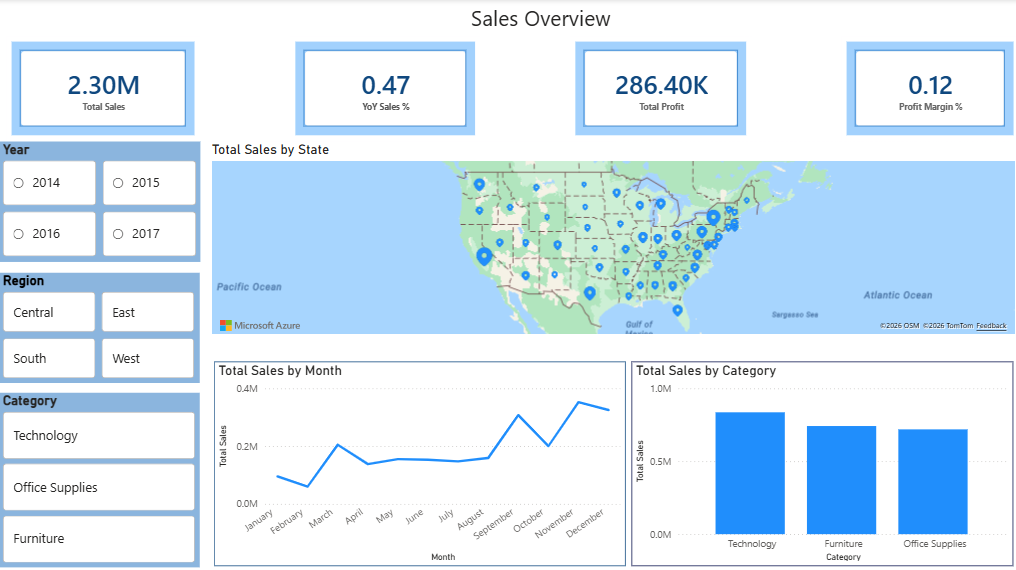

The dashboard page shown, as its layout file describes it:
{"tool":"powerbi","page":{"name":"Sales Overview","canvas":[1280,720],"ordinal":0},"visuals":[{"type":"cardVisual","fields":{"Data":["FactSales.Total Sales"]},"box":[10.1,47,242.4,130.6],"z":0},{"type":"lineChart","fields":{"Category":["DAXDimDate.Month"],"Y":["FactSales.Total Sales"]},"box":[270,455.8,516.8,256.9],"z":1000},{"type":"clusteredColumnChart","fields":{"Category":["DimProduct.Category"],"Y":["FactSales.Total Sales"]},"box":[794,455.8,479,256.9],"z":2000},{"type":"cardVisual","fields":{"Data":["FactSales.Total Profit"]},"box":[717.1,47,227.9,130.6],"z":3000},{"type":"cardVisual","fields":{"Data":["FactSales.Profit Margin %"]},"box":[1057.9,47,222.1,130.6],"z":4000},{"type":"cardVisual","fields":{"Data":["FactSales.YoY Sales %"]},"box":[365.8,47,238.1,130.6],"z":5000},{"type":"advancedSlicerVisual","fields":{"Values":["DAXDimDate.Year"]},"box":[0,178.5,252.6,151],"z":6000},{"type":"azureMap","fields":{"Category":["DimRegion.State"],"Size":["FactSales.Total Sales"]},"box":[262.7,178.5,1017.6,246.8],"z":7000},{"type":"advancedSlicerVisual","fields":{"Values":["DimRegion.Region"]},"box":[0,343,252,138.6],"z":8000},{"type":"advancedSlicerVisual","fields":{"Values":["DimProduct.Category"]},"box":[0,494,251.9,218.9],"z":9000},{"type":"textbox","box":[571.9,0,214.8,46.5],"z":10000}]}

Visuals, with their boxes in screenshot pixels (x1, y1, x2, y2), scaled from the page's 1280x720 canvas onto the 1016x570 screenshot:
cardVisual - FactSales.Total Sales: [left=8, top=37, right=200, bottom=141]
lineChart - DAXDimDate.Month x FactSales.Total Sales: [left=214, top=361, right=625, bottom=564]
clusteredColumnChart - DimProduct.Category x FactSales.Total Sales: [left=630, top=361, right=1010, bottom=564]
cardVisual - FactSales.Total Profit: [left=569, top=37, right=750, bottom=141]
cardVisual - FactSales.Profit Margin %: [left=840, top=37, right=1015, bottom=141]
cardVisual - FactSales.YoY Sales %: [left=290, top=37, right=479, bottom=141]
advancedSlicerVisual - DAXDimDate.Year: [left=0, top=141, right=201, bottom=261]
azureMap - DimRegion.State x FactSales.Total Sales: [left=209, top=141, right=1015, bottom=337]
advancedSlicerVisual - DimRegion.Region: [left=0, top=272, right=200, bottom=381]
advancedSlicerVisual - DimProduct.Category: [left=0, top=391, right=200, bottom=564]
textbox: [left=454, top=0, right=624, bottom=37]
